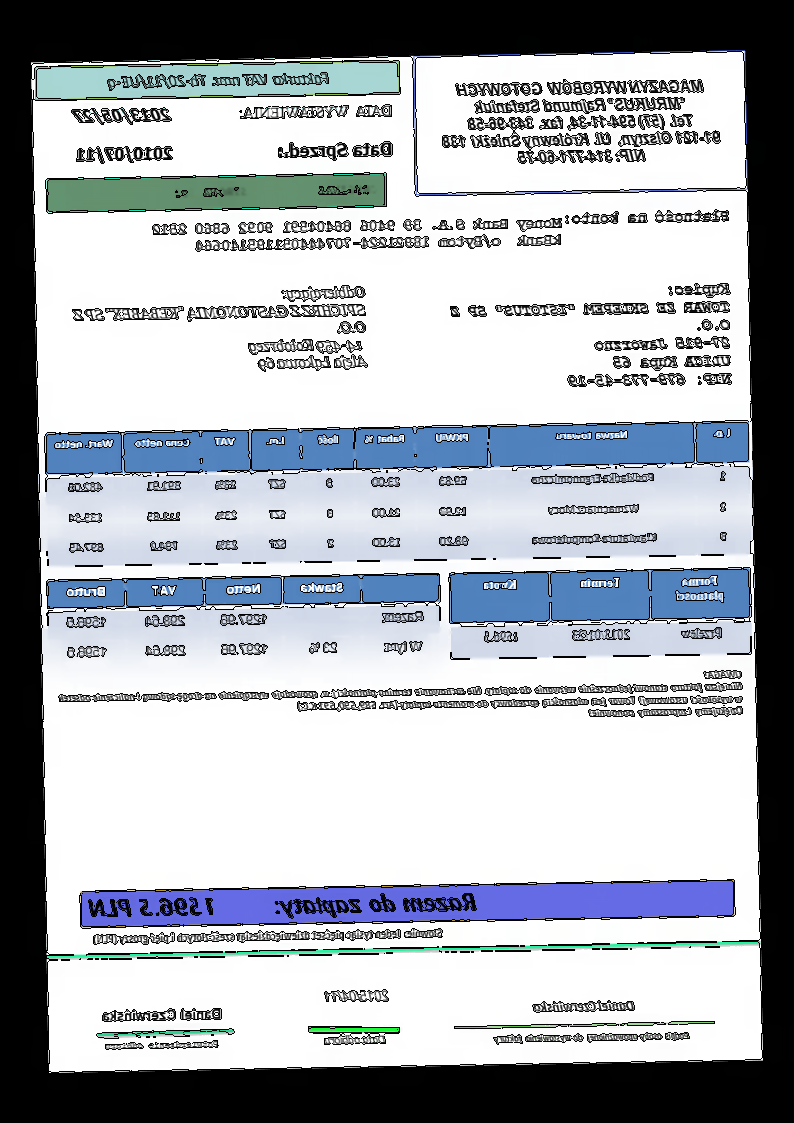Table: (40, 419, 753, 572), (45, 570, 442, 675), (448, 566, 752, 661)
TextBox: (56, 667, 748, 733), (446, 282, 735, 392), (70, 283, 370, 377), (435, 76, 726, 171), (150, 214, 563, 254), (85, 887, 482, 923), (90, 924, 447, 946), (104, 69, 334, 94), (171, 179, 379, 201), (237, 99, 396, 125), (492, 1028, 693, 1047), (561, 206, 734, 227), (275, 138, 395, 162), (101, 1005, 225, 1026), (69, 104, 178, 127), (73, 143, 177, 166), (102, 1037, 224, 1051), (532, 997, 638, 1013), (323, 987, 393, 1003), (322, 1033, 388, 1046)
